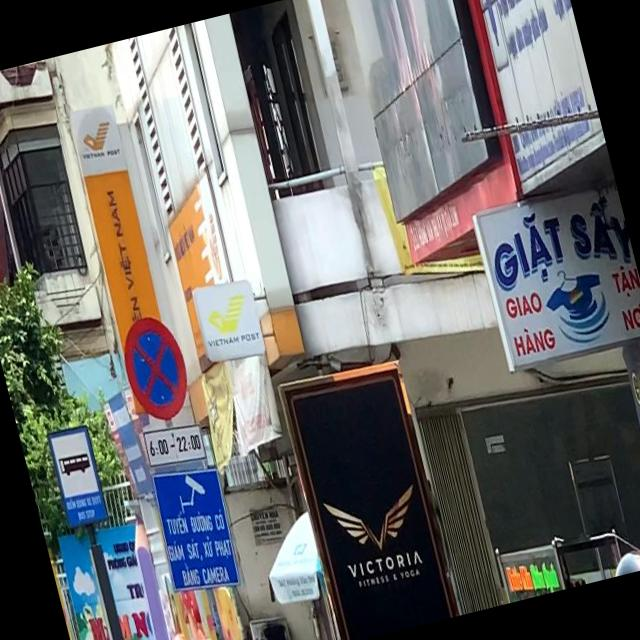P-130: (116, 310, 195, 424)
